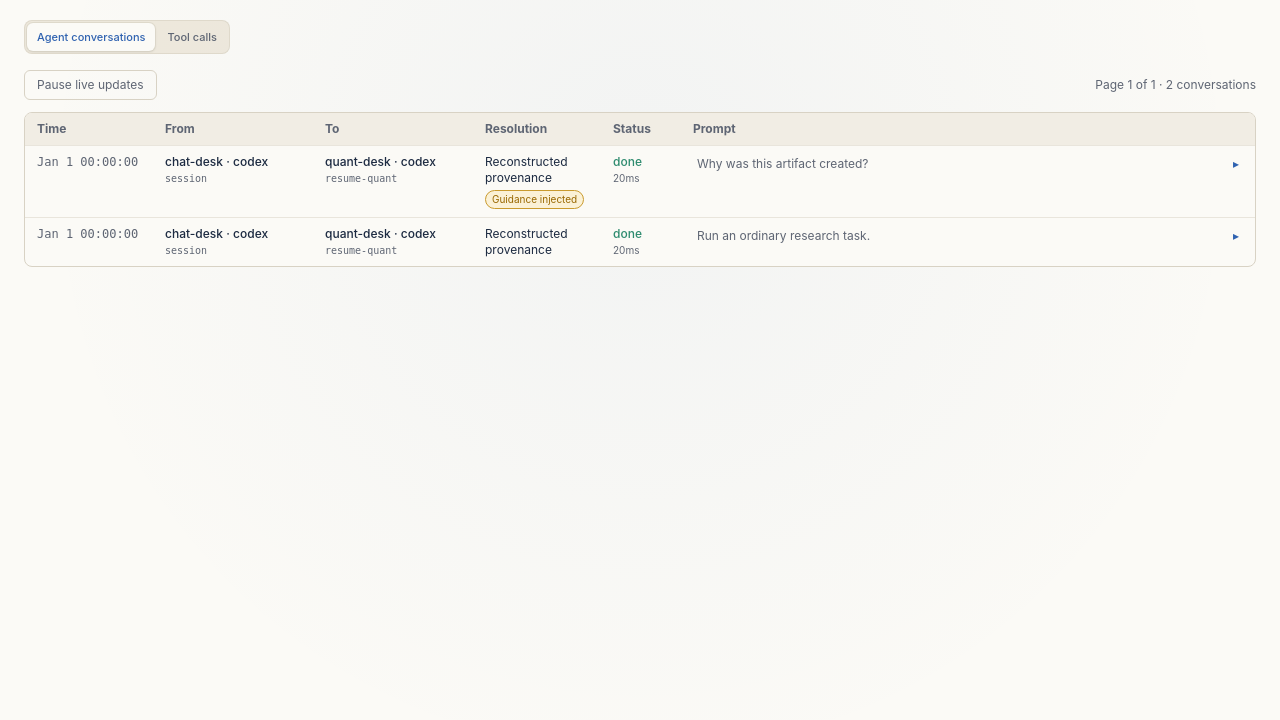
Test case: LogsPage Agent conversations › shows original and delivered prompts only for explicit reconstruction
The image size is (1280, 720).
Click the button "Why was this artifact created? ▸" at (783, 164), box [693, 154, 1243, 174]
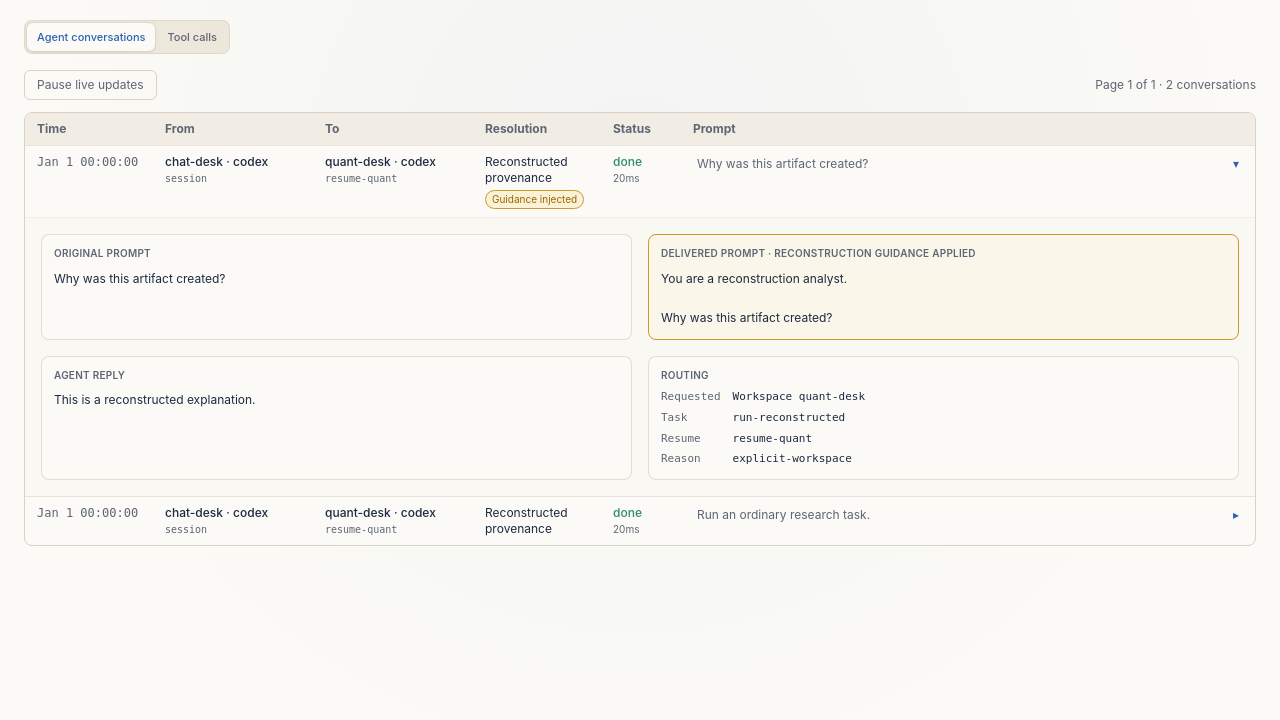
Check: the heading "Delivered prompt · reconstruction guidance applied" is shown, box [661, 247, 976, 259]
Check: the text "You are a reconstruction analyst" is shown, box [661, 271, 847, 325]
Check: the text "This is a reconstructed explanation." is shown, box [54, 392, 256, 408]
